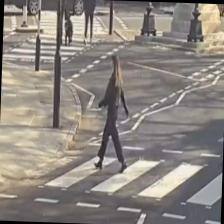person: (93, 54, 131, 172)
